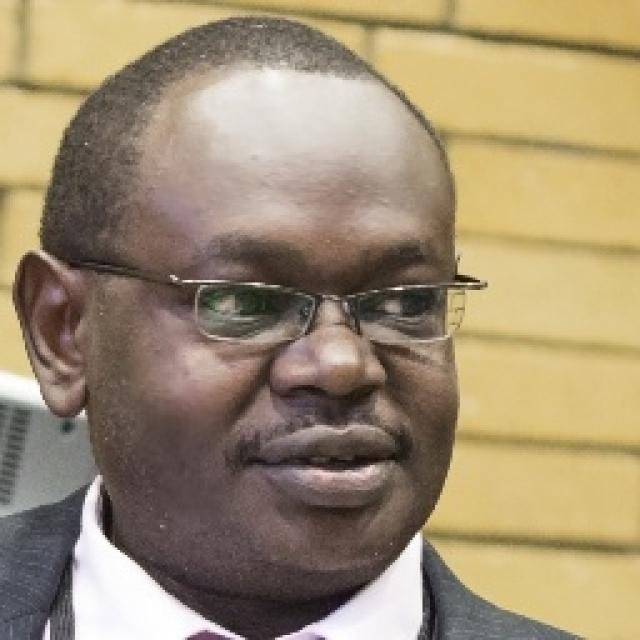earlobe: (44, 361, 88, 419)
eye: (198, 287, 280, 321), (365, 291, 441, 323)
nose: (272, 381, 386, 424)
wholeear: (10, 250, 87, 420)
